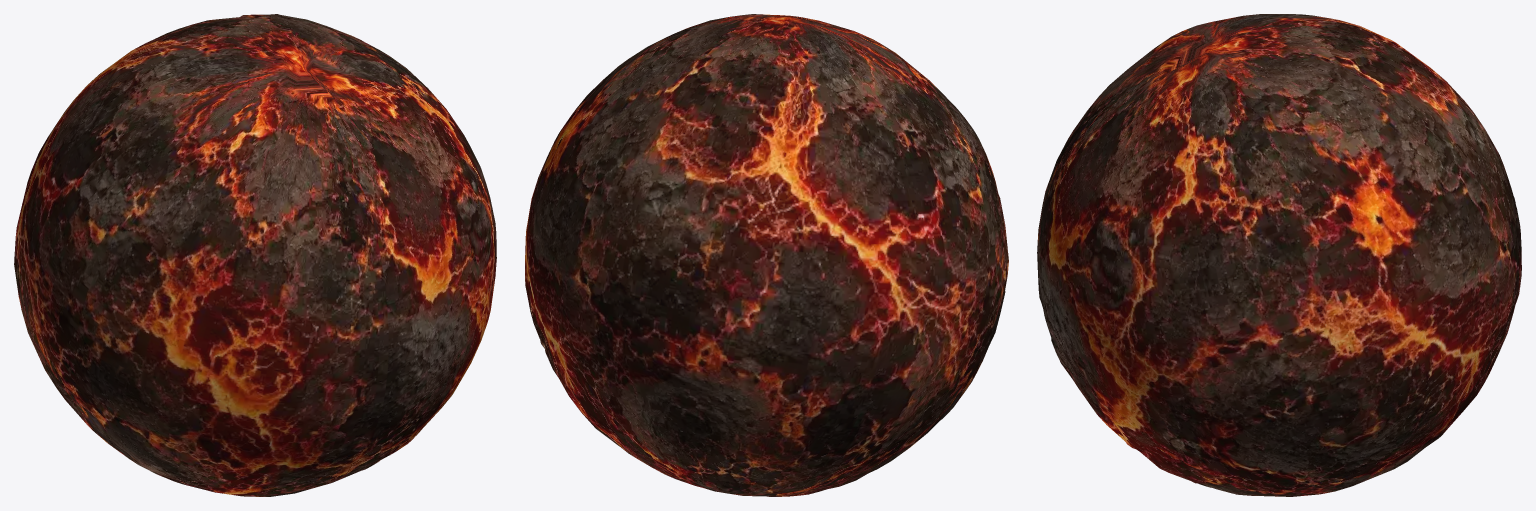
The model's file is planet_1.glb.
3 views of the same model, side by side, from view 1: azimuth 30°, elevation 25°; view 2: azimuth 150°, elevation 25°; view 3: azimuth 270°, elevation 25° (orthographic).
Parts seen in each view (by area): view 1: Mesh_0.001; view 2: Mesh_0.001; view 3: Mesh_0.001.
Part boxes in pixels (x1=…): Mesh_0.001: x1=14, y1=14, x2=496, y2=496; Mesh_0.001: x1=525, y1=14, x2=1008, y2=496; Mesh_0.001: x1=1037, y1=14, x2=1521, y2=496.
Bounding box in the file's own units: 1.9 × 1.9 × 1.9.
Materials: 1 (1 with a texture image).
